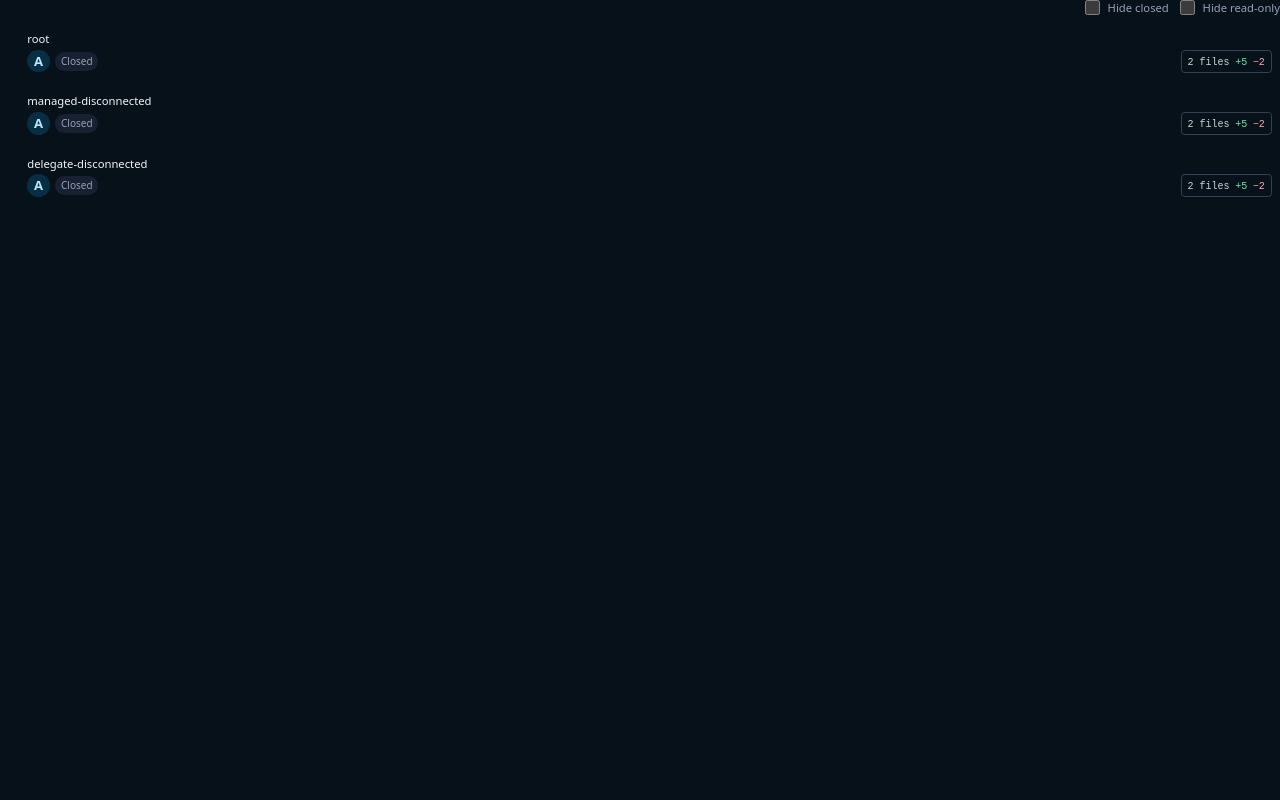
Test case: ActivityTree › keeps kind labels out of rows and exposes them in identity popovers
Expected: the text "main" is not shown
Press the mouse on the button named "Session identity: agent" at (39, 61), box [27, 50, 50, 72]
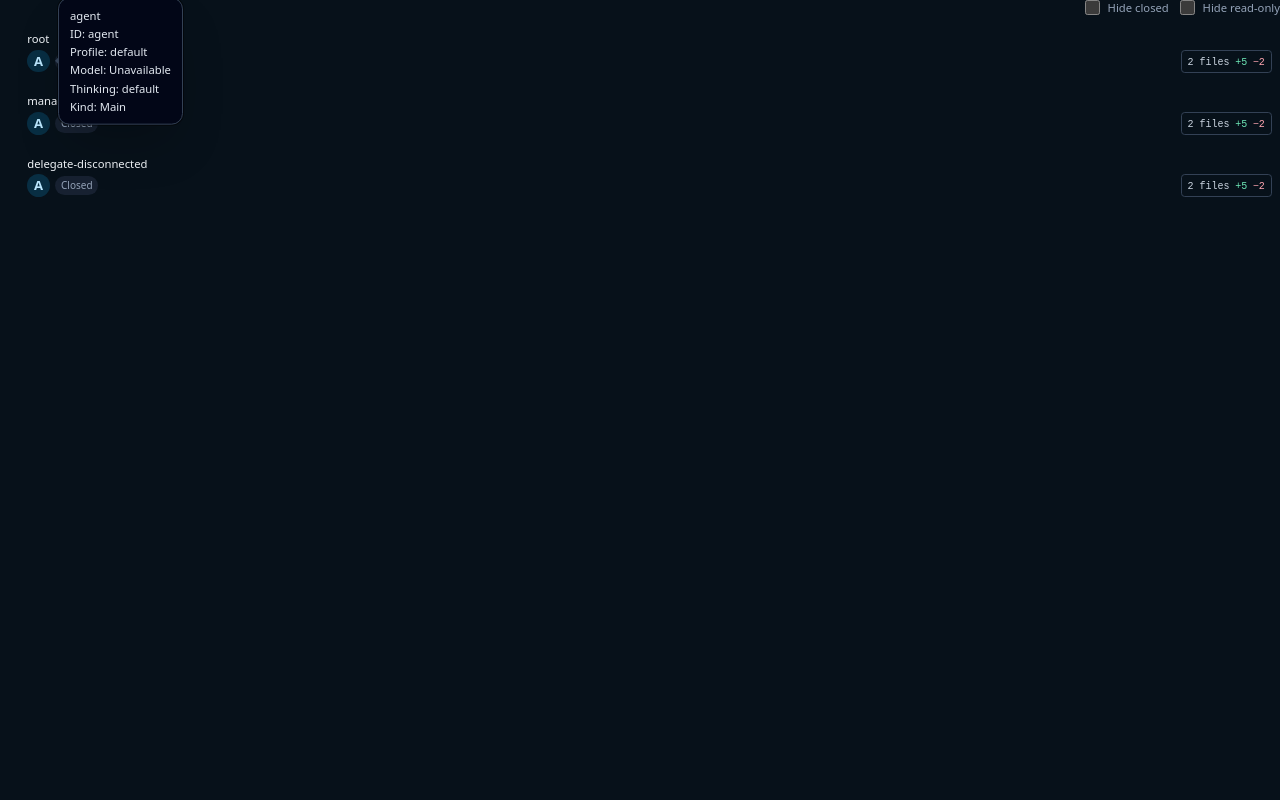
Now the tooltip shows "Kind: Main", box [70, 7, 171, 114]
